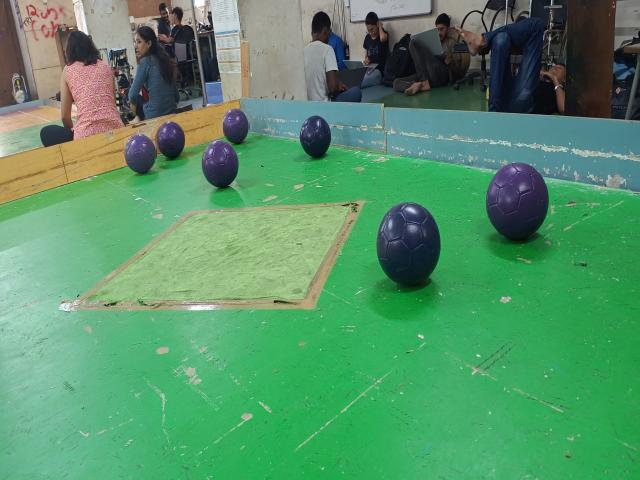jambhalya: (486, 164, 549, 240), (201, 140, 239, 188), (125, 134, 157, 173), (156, 122, 185, 159), (224, 109, 249, 143)
kaalyya: (376, 204, 440, 285), (299, 115, 331, 158)
